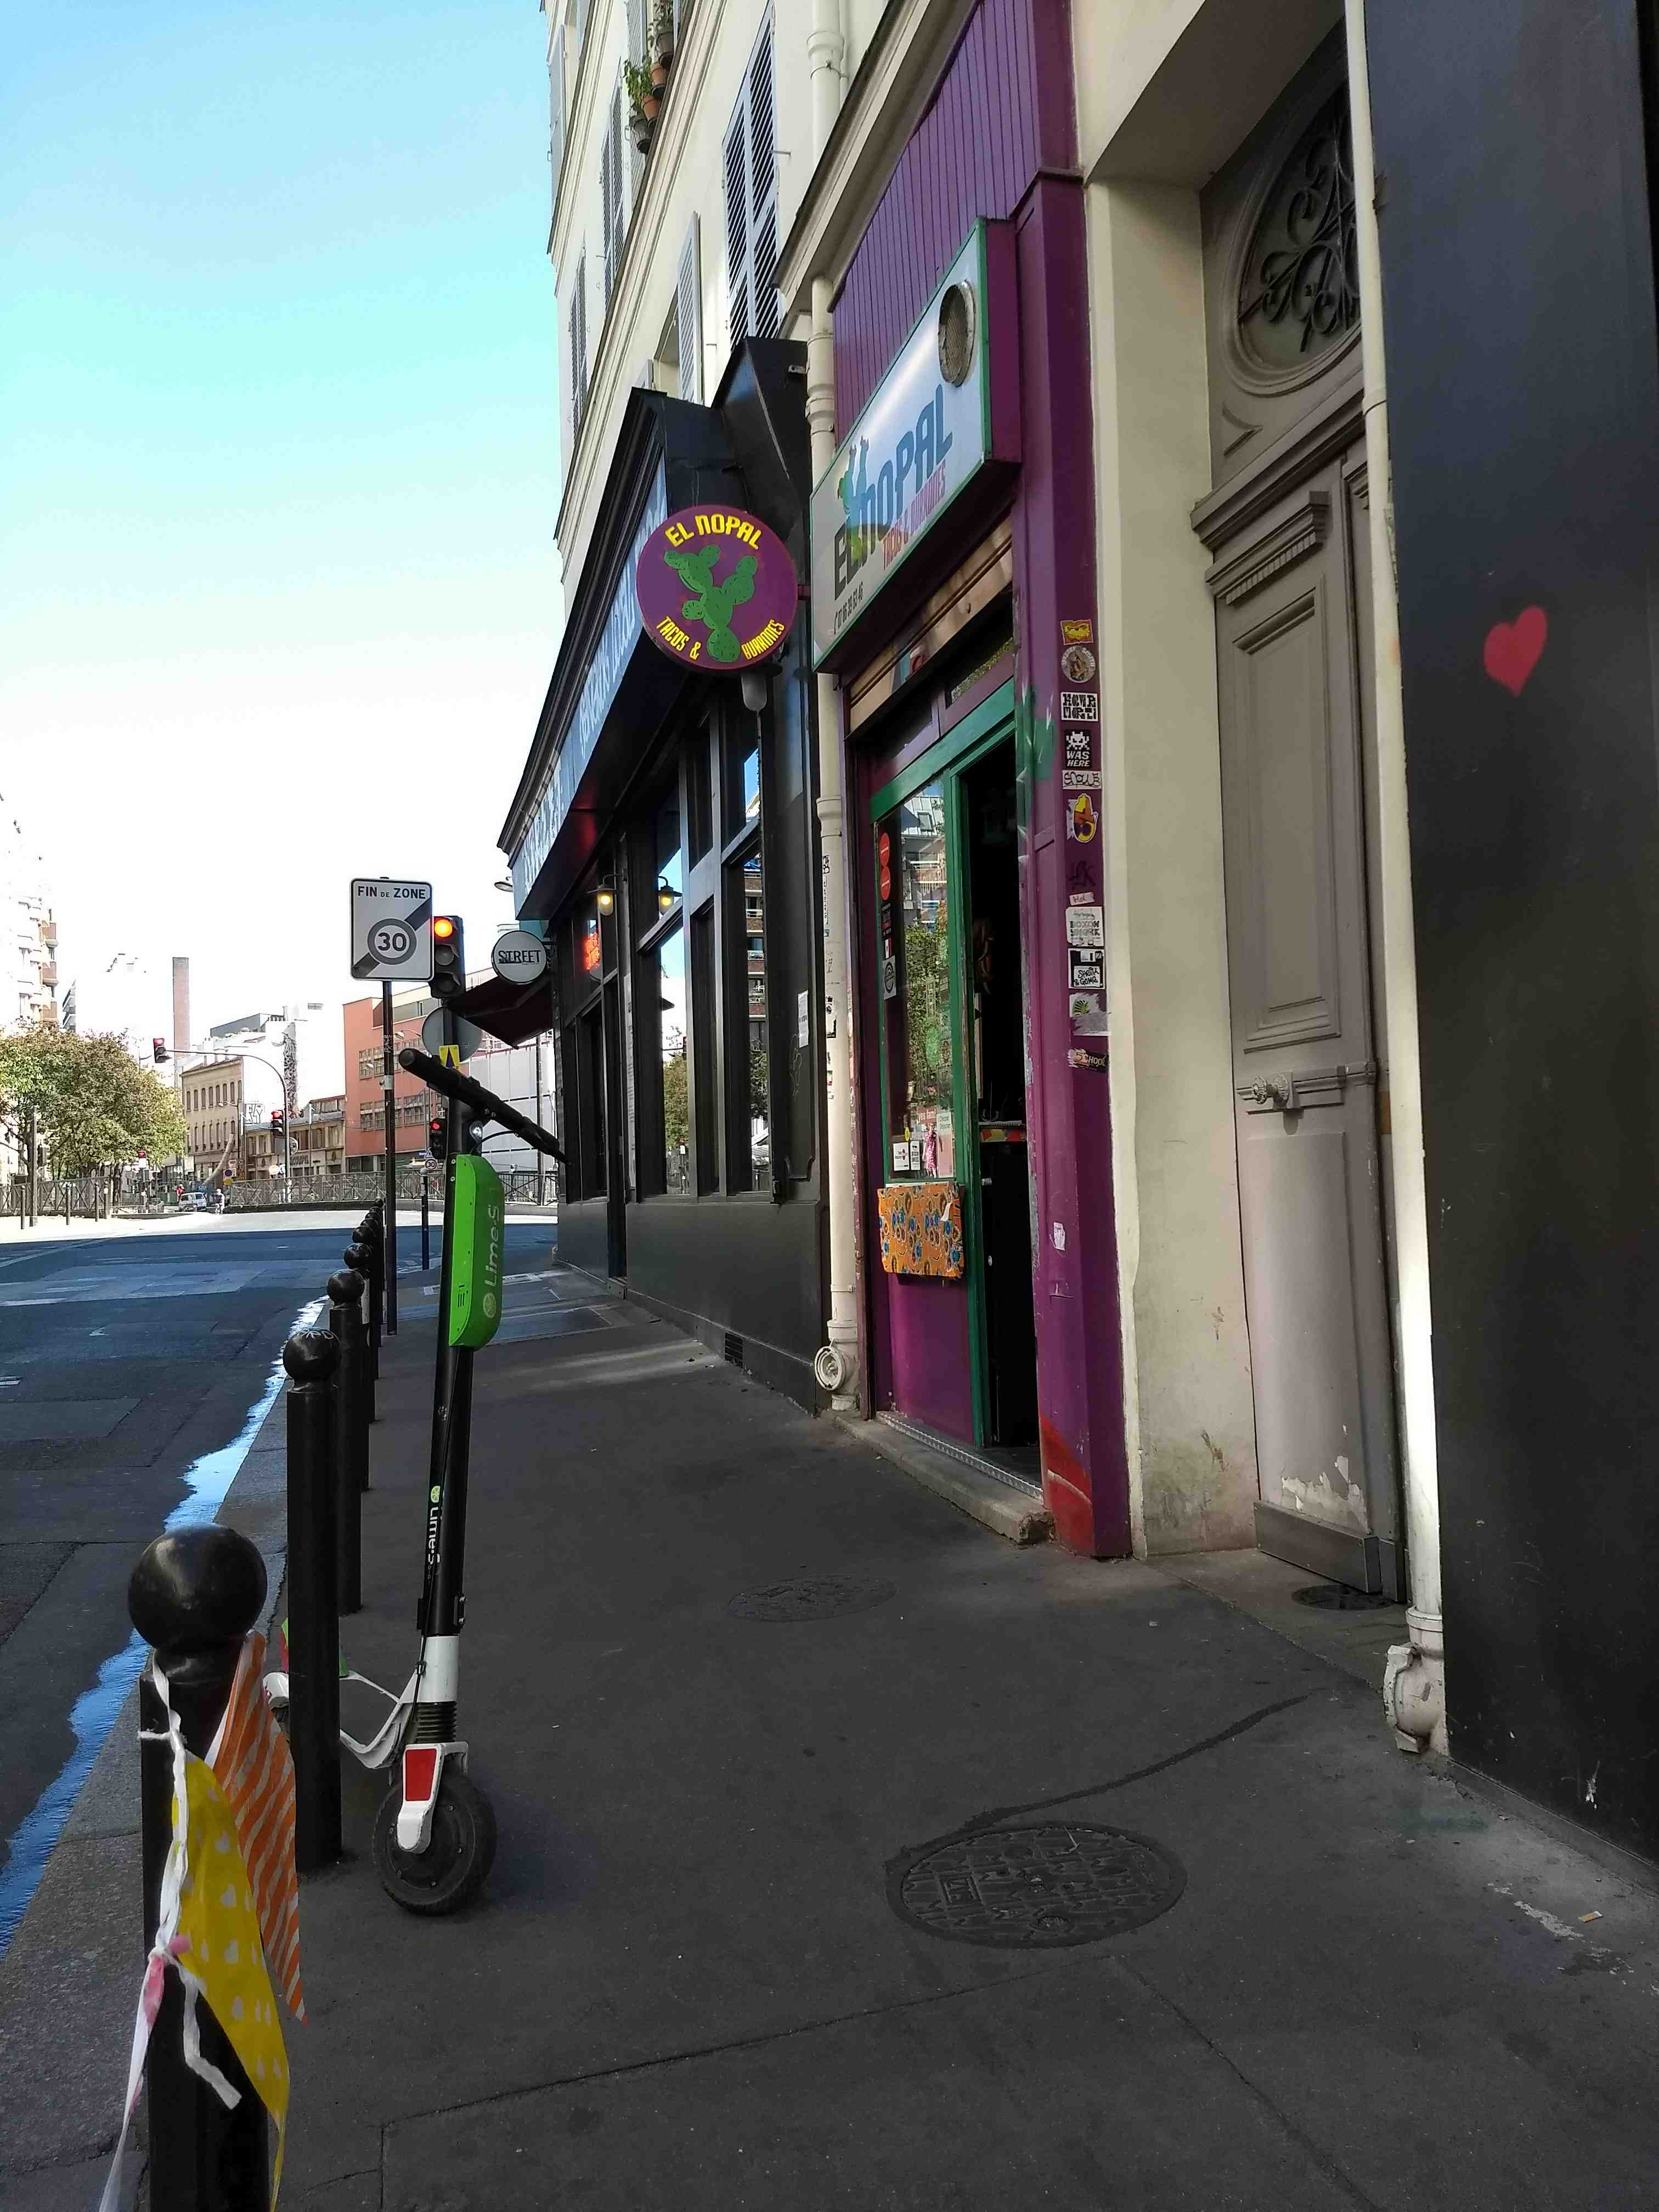scooter: (204, 1022, 633, 1942)
